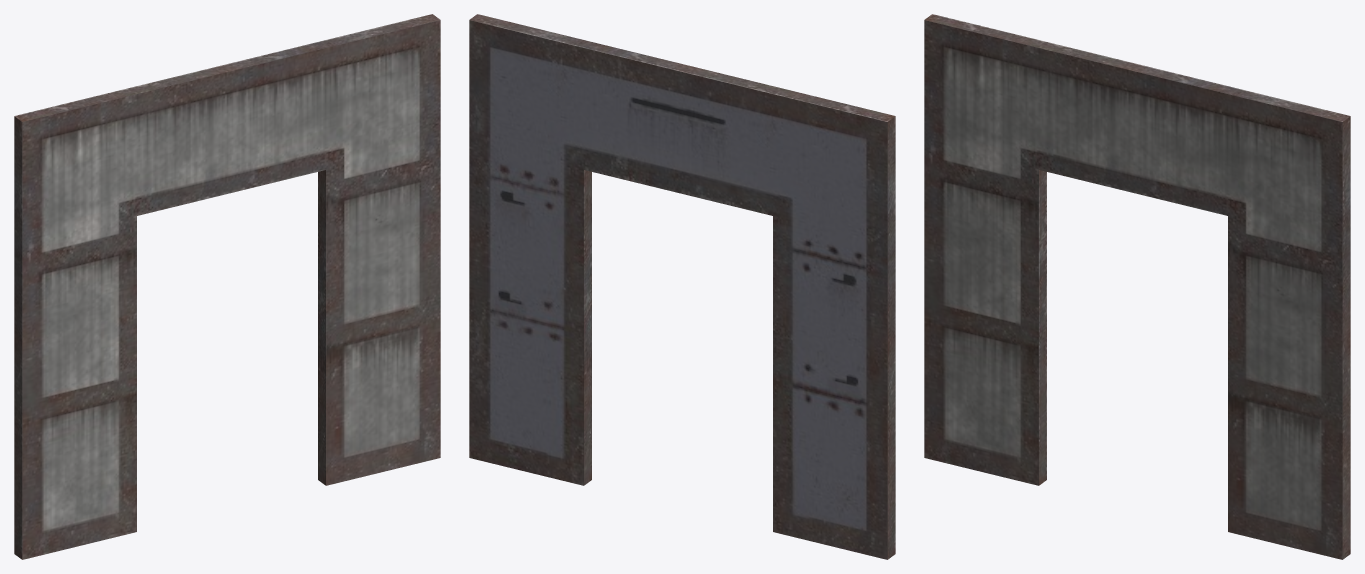
File: armored_doorway_textured.glb
3 views of the same model, side by side, from view 1: azimuth 30°, elevation 25°; view 2: azimuth 150°, elevation 25°; view 3: azimuth 330°, elevation 25° (orthographic).
Visible parts, largest first — view 1: Cube.002; view 2: Cube.002; view 3: Cube.002.
Part boxes in pixels (x1=…): Cube.002: x1=14, y1=14, x2=440, y2=559; Cube.002: x1=469, y1=14, x2=895, y2=559; Cube.002: x1=924, y1=14, x2=1350, y2=559.
Bounding box in the file's own units: 2 × 2 × 0.0681.
Materials: 1 (1 with a texture image).
